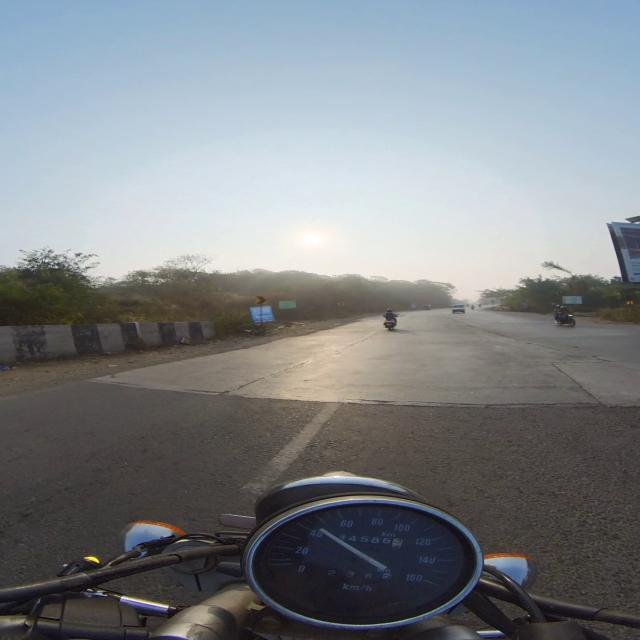car: (451, 304, 465, 313)
motorcycle: (0, 473, 639, 639), (555, 313, 576, 327), (384, 320, 396, 330)
